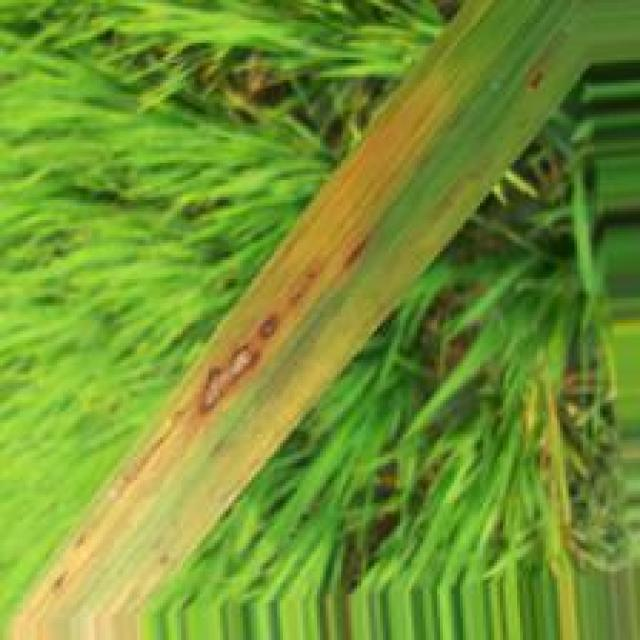Rice Tungro: (0, 58, 464, 640)
